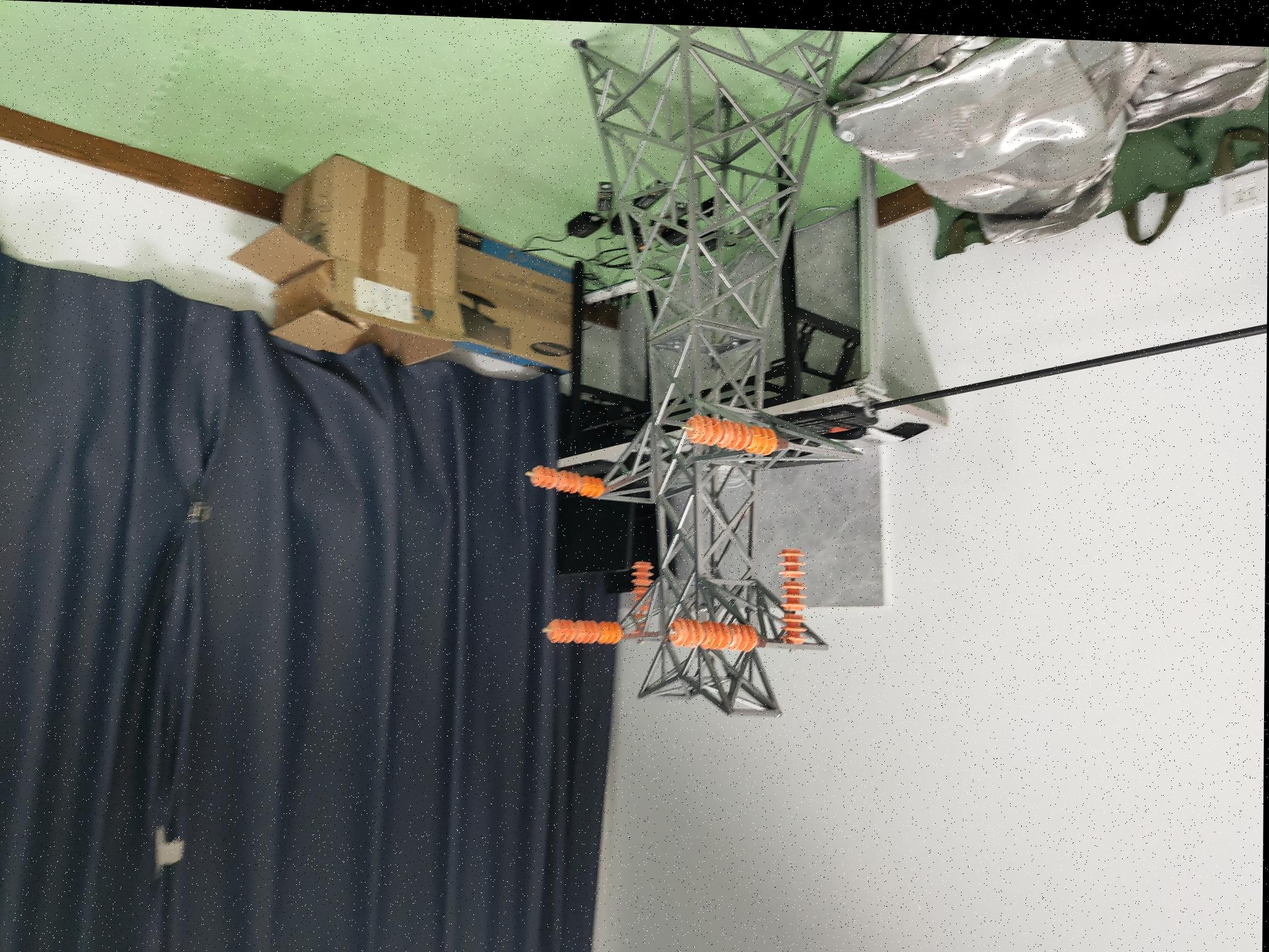tower: (564, 21, 865, 721)
